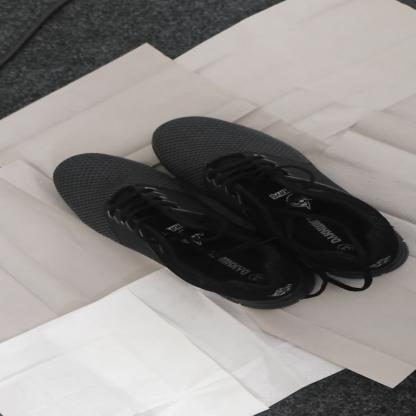safety-shoe: (53, 116, 406, 310)
